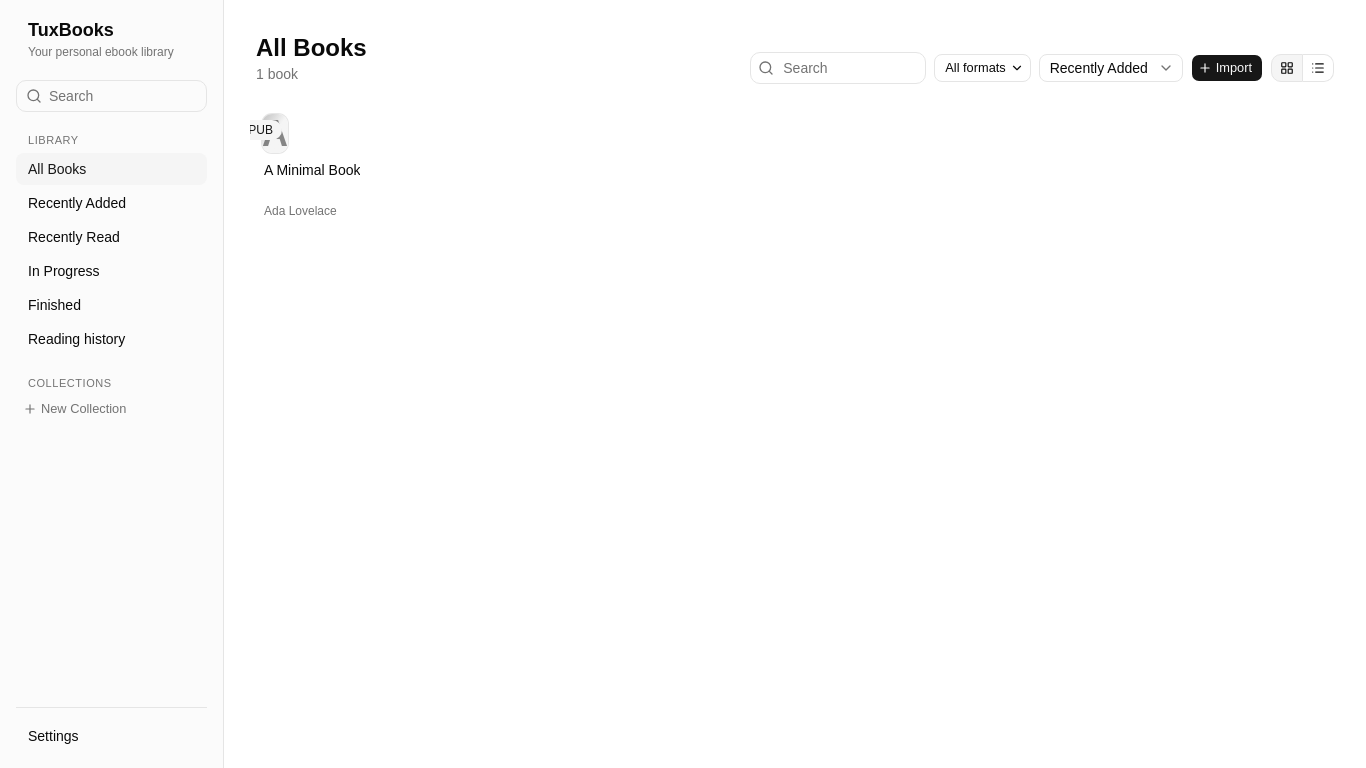
Test: Import via the header menu › reports unchanged files as already in the library
The width and height of the screenshot is (1366, 768).
Expected: the header with test id "library-header" is shown, [256,32,1334,84]
What coordinates should you click on to do the following:
click the button with test id "import-menu"
I would click on:
 (1227, 68)
Its box is [1191,54,1263,82].
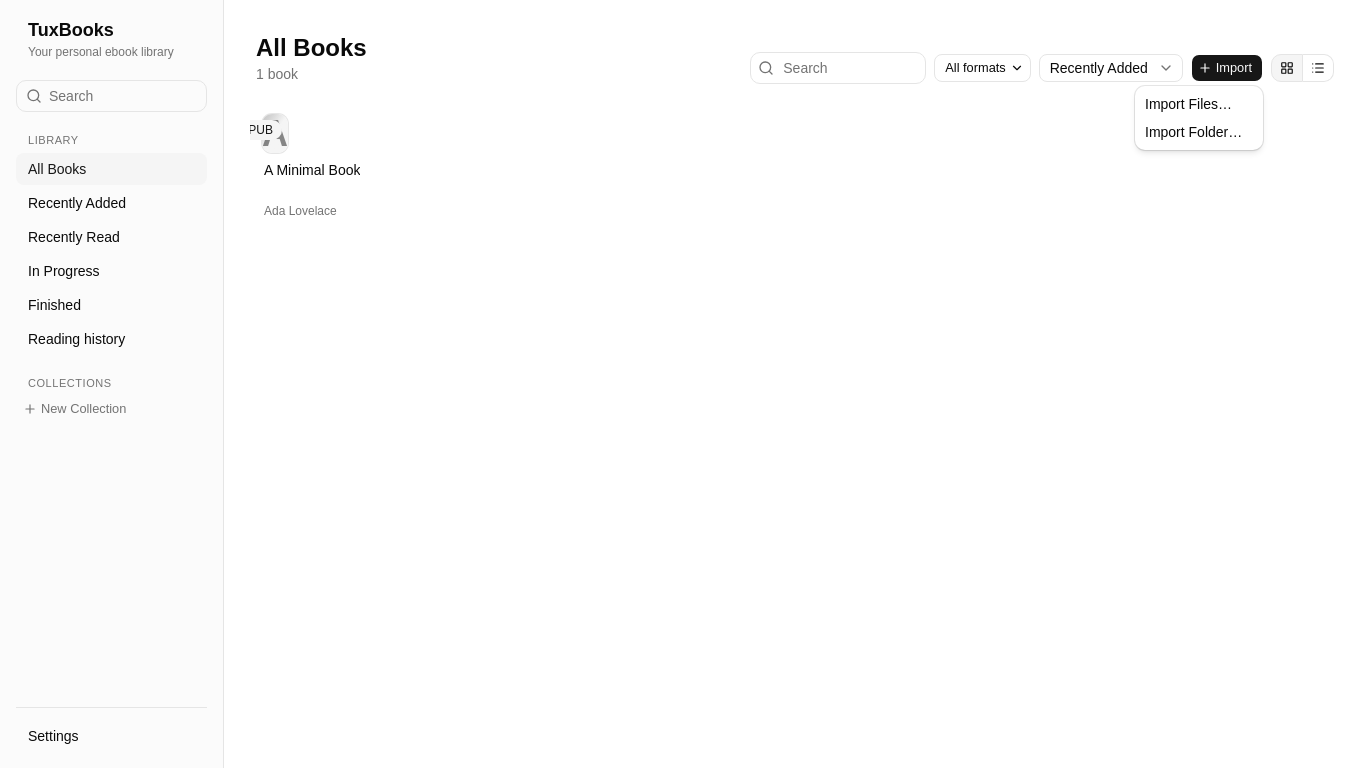
What coordinates should you click on to do the following:
click the menu item "Import Folder…"
I would click on:
 (1194, 132)
Its box is [1145,124,1242,140].
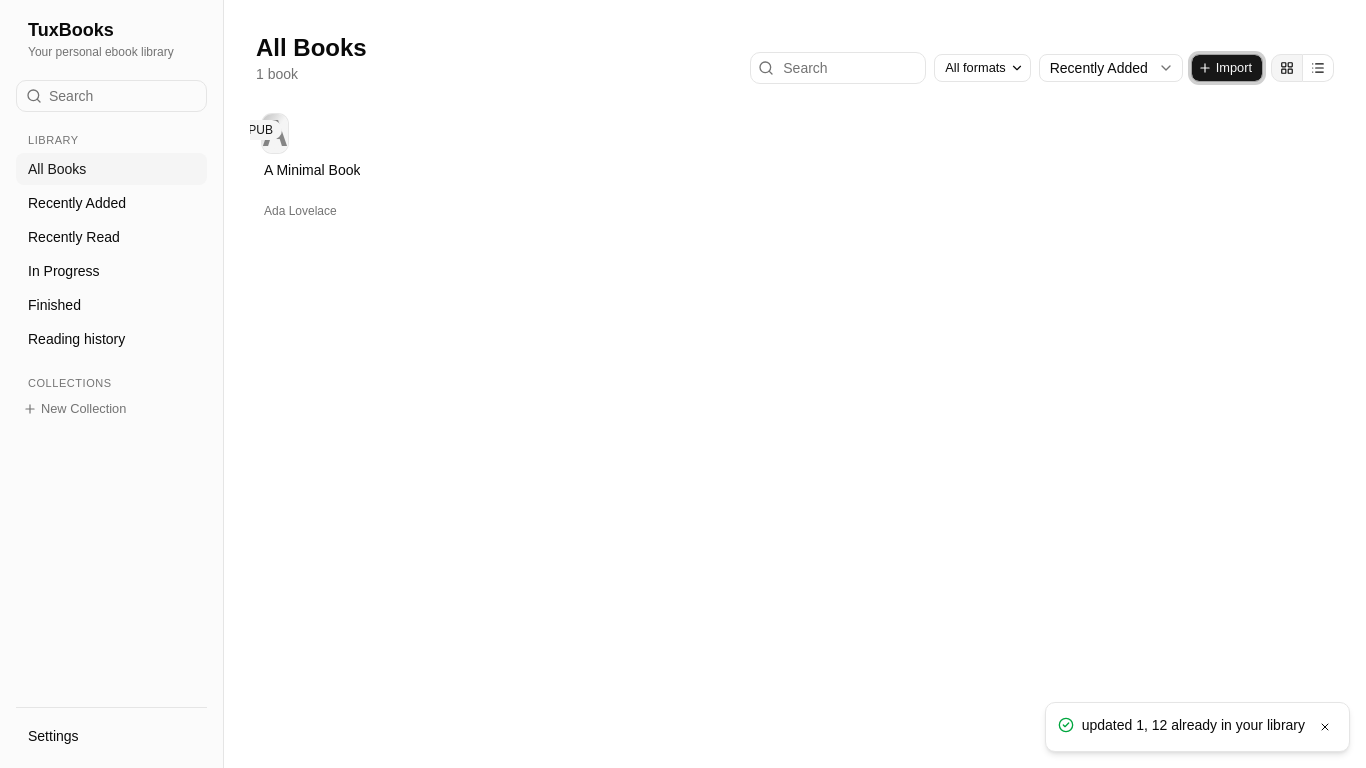
Expected: the message with test id "import-status" reads "updated 1, 12 already in your library", [1082,717,1305,733]
